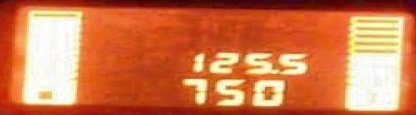-: (268, 67, 278, 74)
0: (250, 79, 285, 107)
1: (190, 51, 205, 72)
2: (206, 51, 238, 73)
5: (211, 78, 245, 106), (276, 52, 306, 74), (243, 51, 271, 73)
7: (180, 76, 208, 106)
